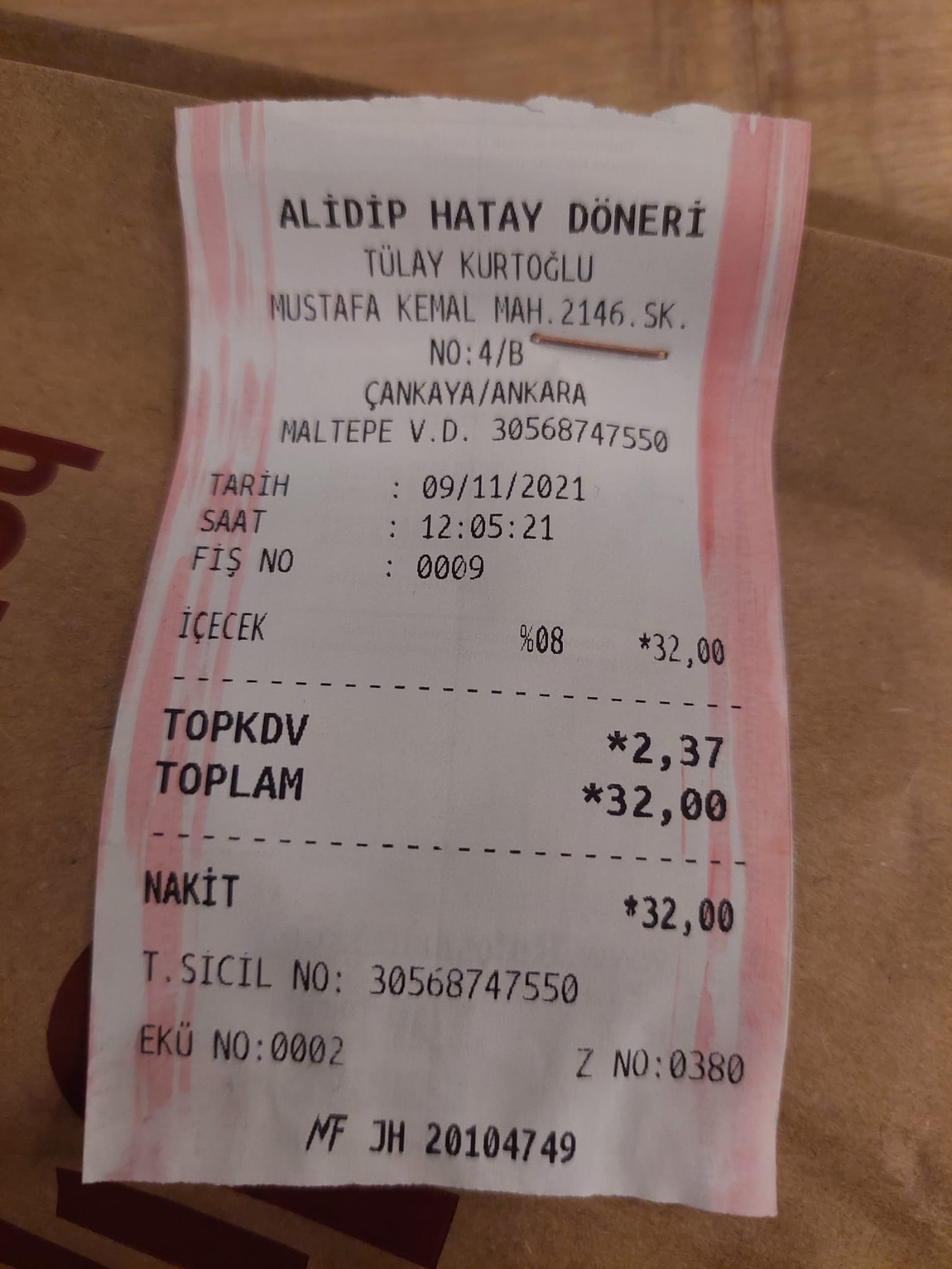date: (599, 767, 746, 850)
price: (410, 467, 593, 514)
workplace: (249, 180, 728, 412)
